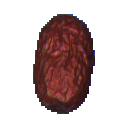gd: (19, 7, 116, 121)
